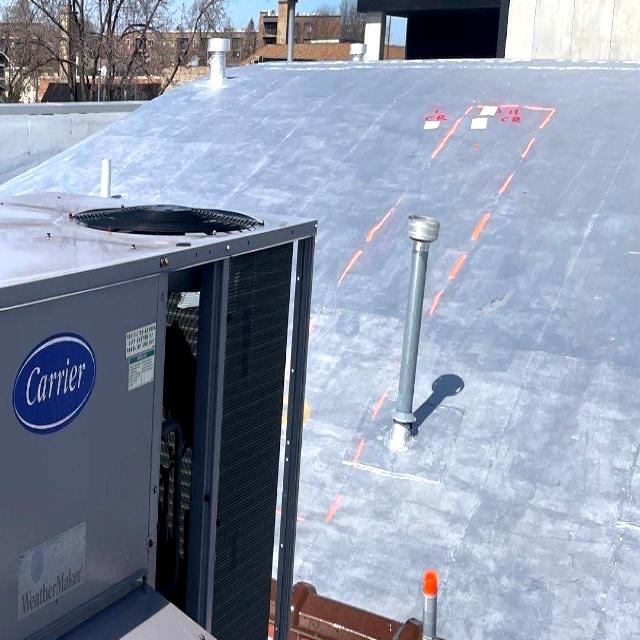GRAVITY-VENT: (394, 205, 442, 438), (204, 31, 232, 95)
RTU: (0, 187, 319, 640)
